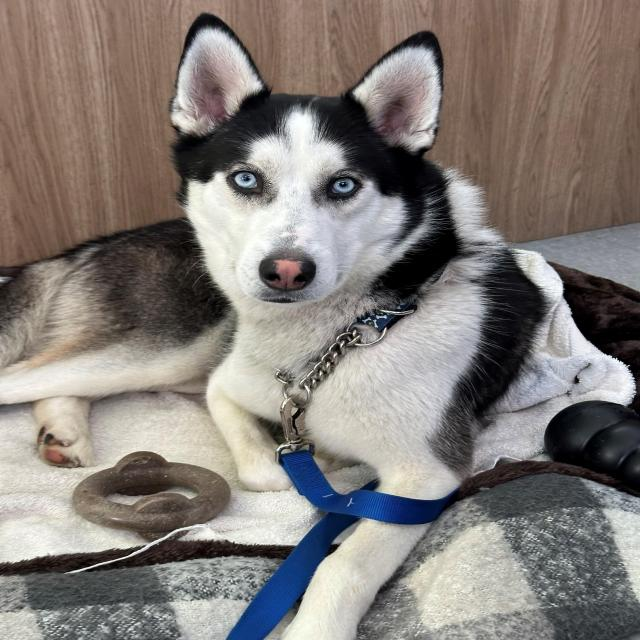siberian_husky_dog: (144, 4, 477, 332)
